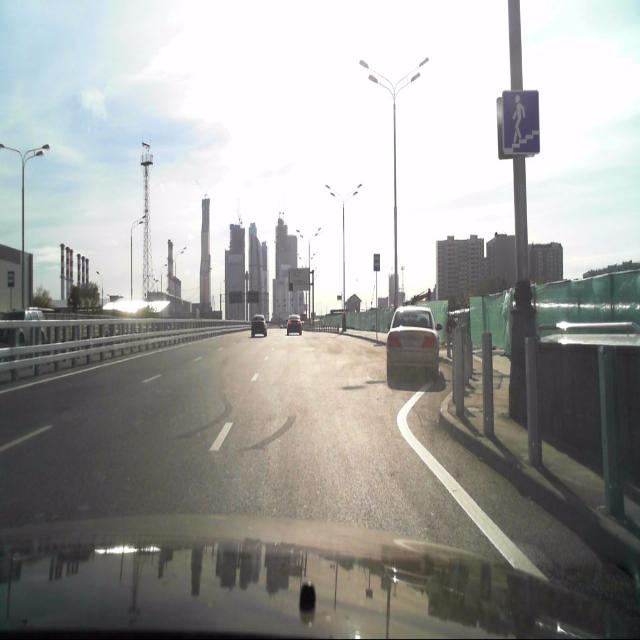road sign: (502, 92, 540, 156)
